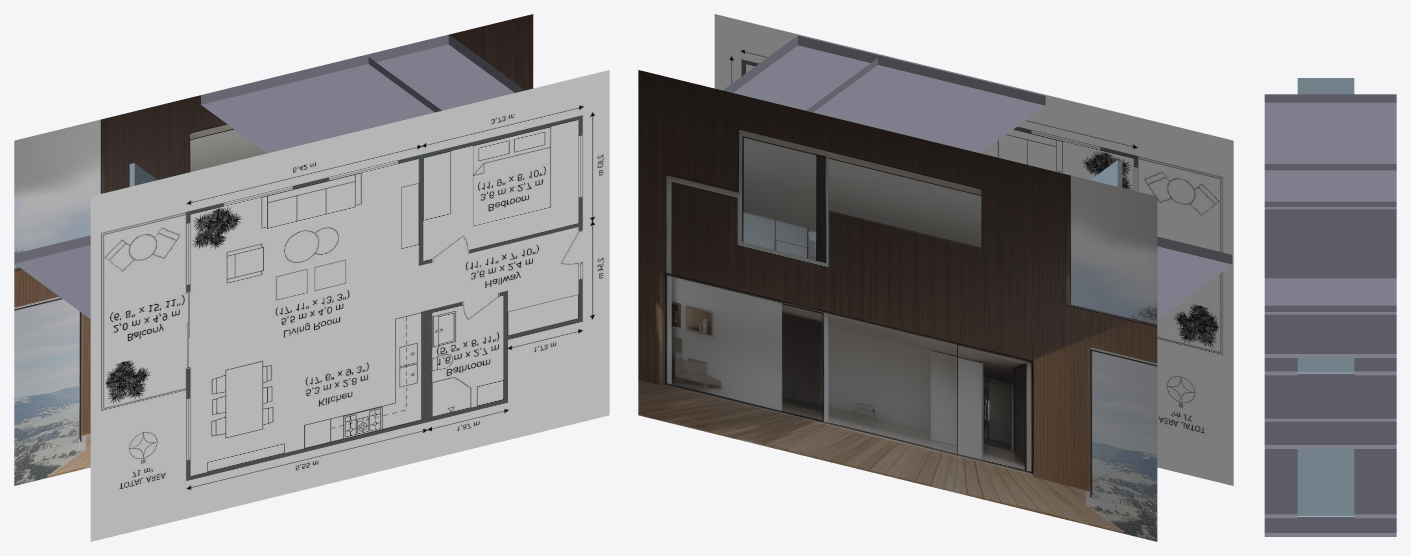
The model's file is floorplan2.gltf.
The picture shows the model from 3 angles, left to right: view 1: azimuth 30°, elevation 25°; view 2: azimuth 150°, elevation 25°; view 3: azimuth 270°, elevation 25°; orthographic projection. The views are drawn at different scales.
Visible parts, largest first — view 1: FloorPlan, InteriorFloor, floorplan2; view 2: InteriorFloor, FloorPlan, floorplan2; view 3: floorplan2.
Part boxes in pixels (x1,y1,x2,y2): FloorPlan: (90,70,609,541); InteriorFloor: (14,14,533,485); floorplan2: (14,34,524,318); InteriorFloor: (638,70,1157,541); FloorPlan: (714,14,1233,485); floorplan2: (723,35,1232,318); floorplan2: (1264,78,1396,536).
Size of the model in its own units: 11.19 by 7.12 by 2.85.
Materials: 3 (2 with a texture image).
